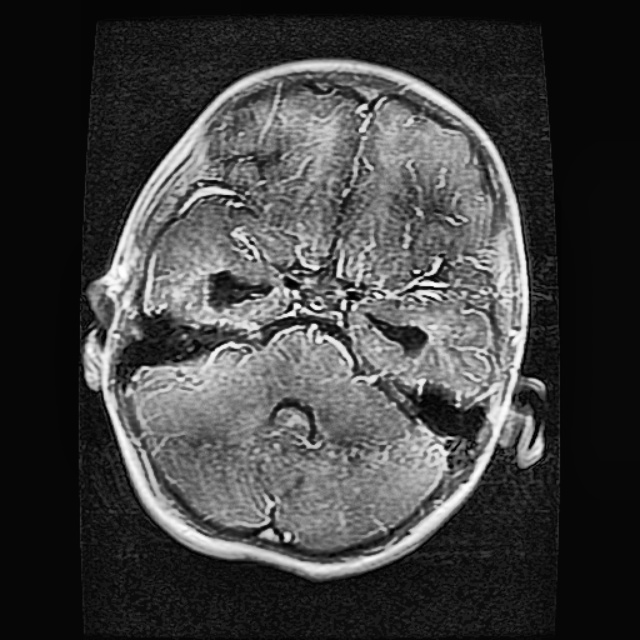Glioma: (204, 268, 272, 309)
